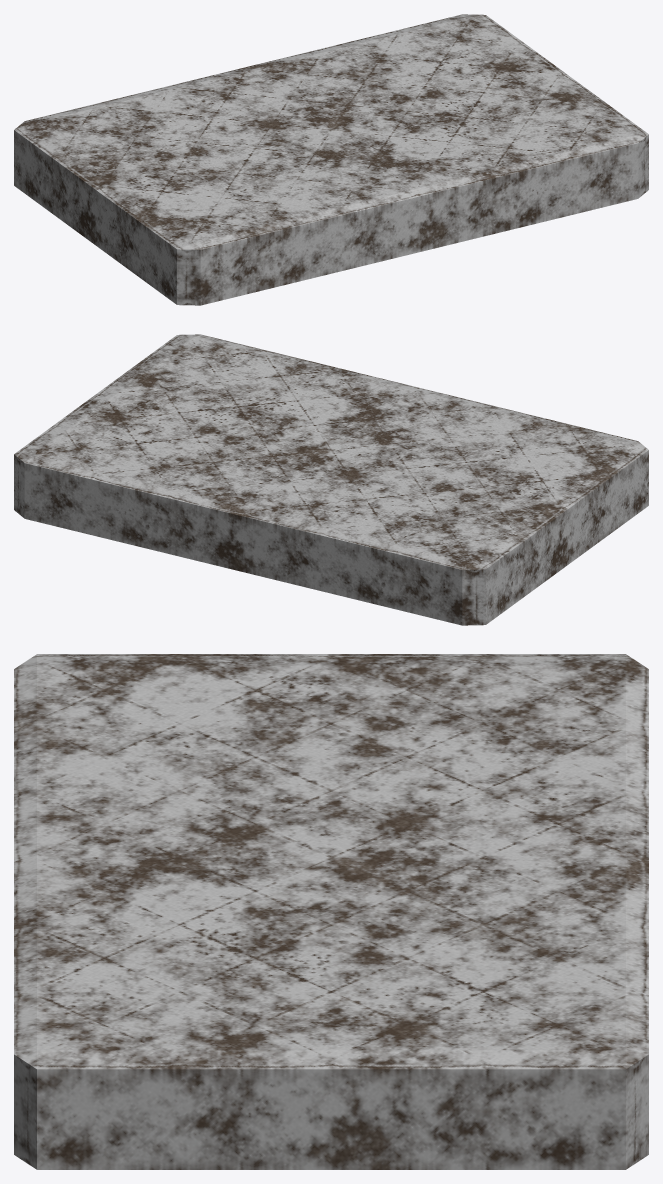
File: dirty_mattress.glb
3 views of the same model, one above another, from view 1: azimuth 30°, elevation 25°; view 2: azimuth 150°, elevation 25°; view 3: azimuth 270°, elevation 25° (orthographic). The views are drawn at different scales.
Visible parts, largest first — view 1: Cube.033; view 2: Cube.033; view 3: Cube.033.
Part boxes in pixels (x1,y1,x2,y2): Cube.033: [14, 14, 648, 305]; Cube.033: [14, 334, 648, 625]; Cube.033: [14, 654, 648, 1169].
Size of the model in its own units: 2 by 0.2428 by 1.29.
1 material, 1 textured.
